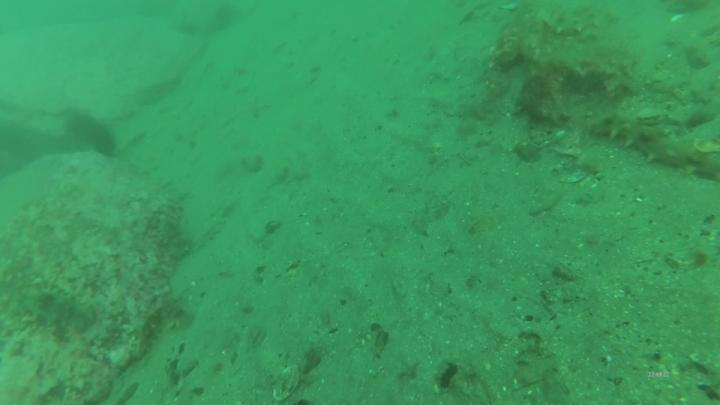echinus: (62, 111, 119, 162)
holothurian: (589, 108, 720, 177), (529, 40, 642, 87), (487, 1, 531, 76), (125, 297, 169, 366), (542, 1, 612, 42)
scallop: (271, 363, 305, 404)
